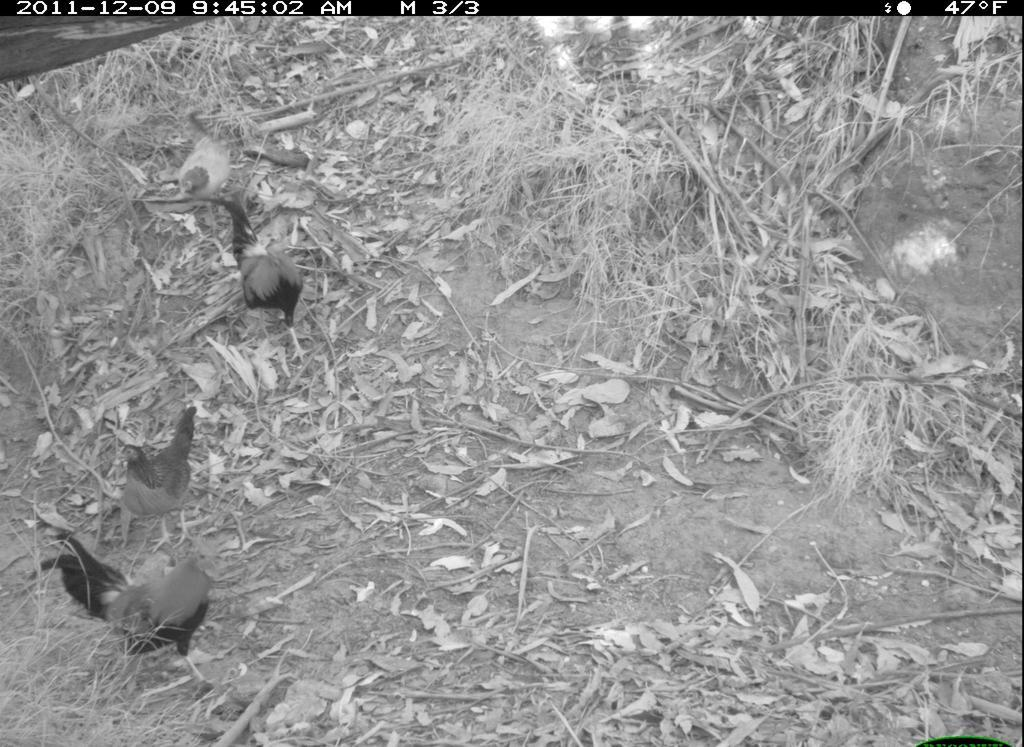bird: (24, 532, 233, 698), (222, 199, 327, 365), (114, 402, 207, 559), (166, 112, 235, 216)
